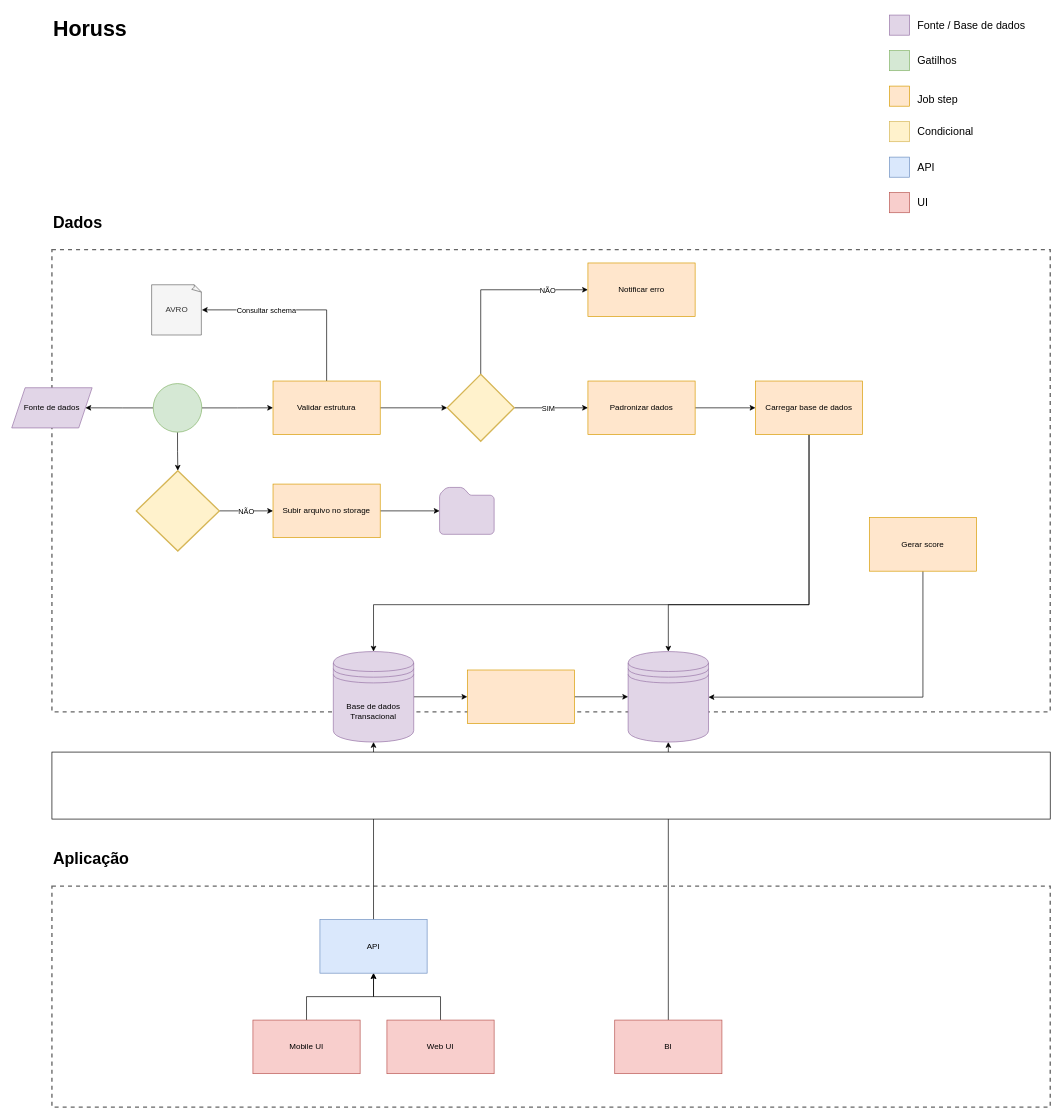
The diagram is 1063 pixels wide and 1119 high, and some of its shapes have lost their labels. Here are the shapes that lost their labels. From the top down, the centre of each, then its label:
At point (177, 407): "Trigger".
At point (480, 407): "Está valido?".
At point (177, 510): "Arquivo já existe?".
At point (466, 510): "Storage".
At point (521, 696): "Sincronizar (Stream)".
At point (668, 696): "Base de dados analítica".
At point (550, 785): "Blockchain".
